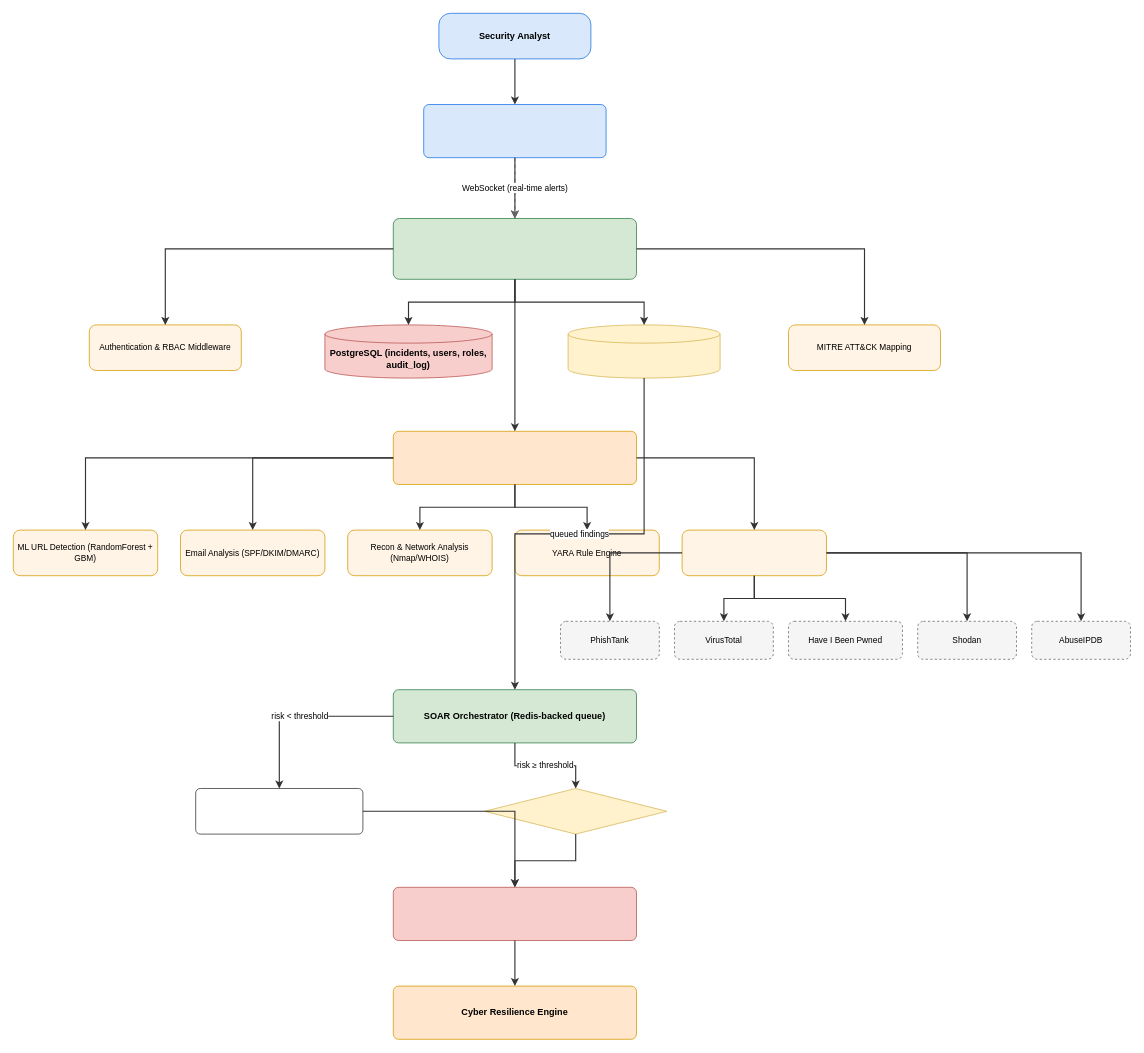
Some shapes in this 1144 by 1053 pixel diagram are drawn without their labels. Each missing label, with the centre of its shape:
"Automated Playbook (low-risk)" goes at [279,811].
"Express API Gateway Auth · RBAC · Helmet · CORS · Rate Limiting" goes at [514,248].
"FastAPI Detection Engine" goes at [514,457].
"Human Approval Gate (medium / high-risk)" goes at [575,811].
"Immutable Audit Log (hash-chained)" goes at [514,913].
"React Frontend (Vite, Recharts, Axios)" goes at [514,131].
"Redis (cache + work queue)" goes at [643,351].
"Threat Feed Connectors" goes at [753,552].
